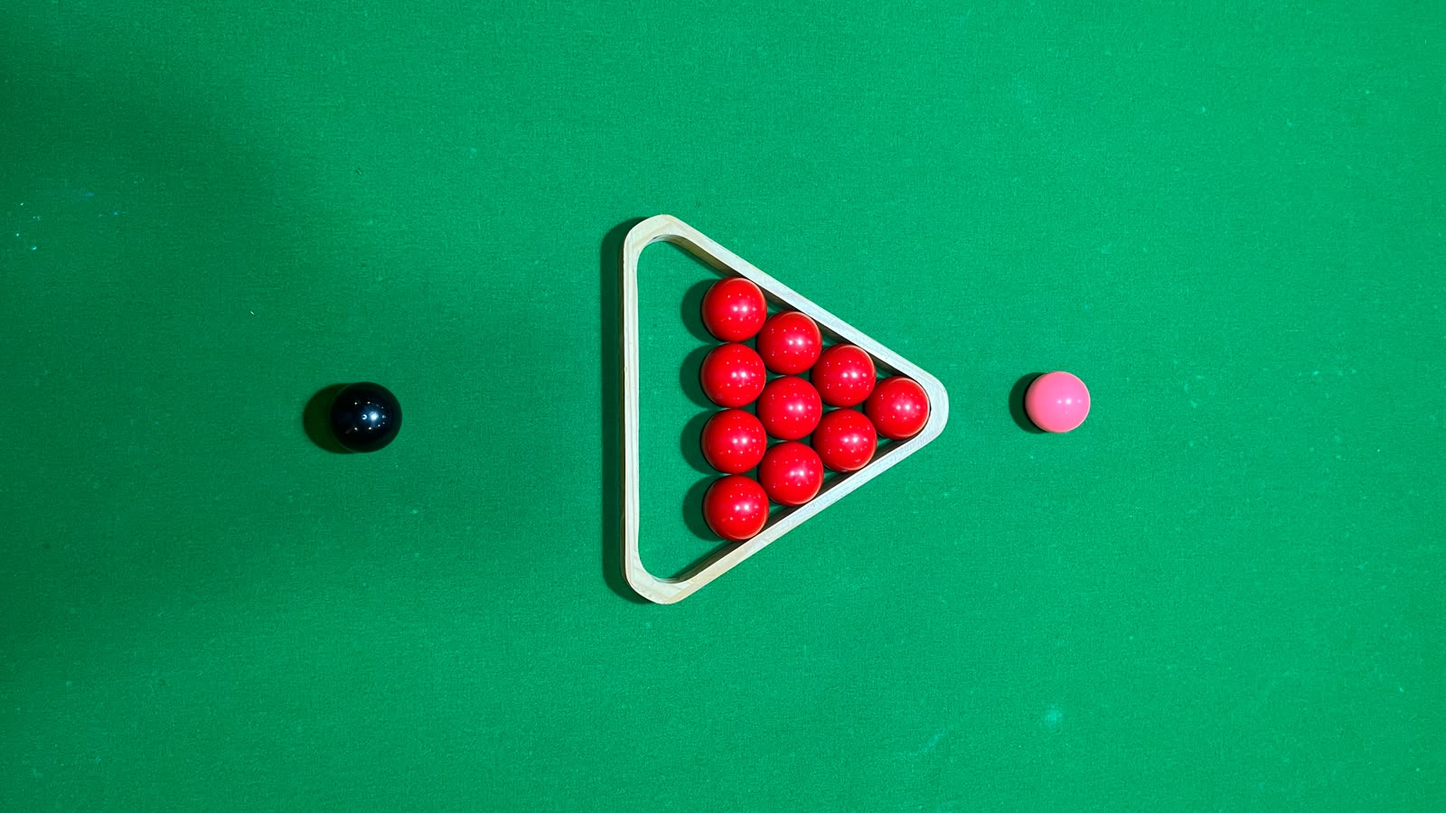Snooker-Rack: (700, 278, 933, 541)
